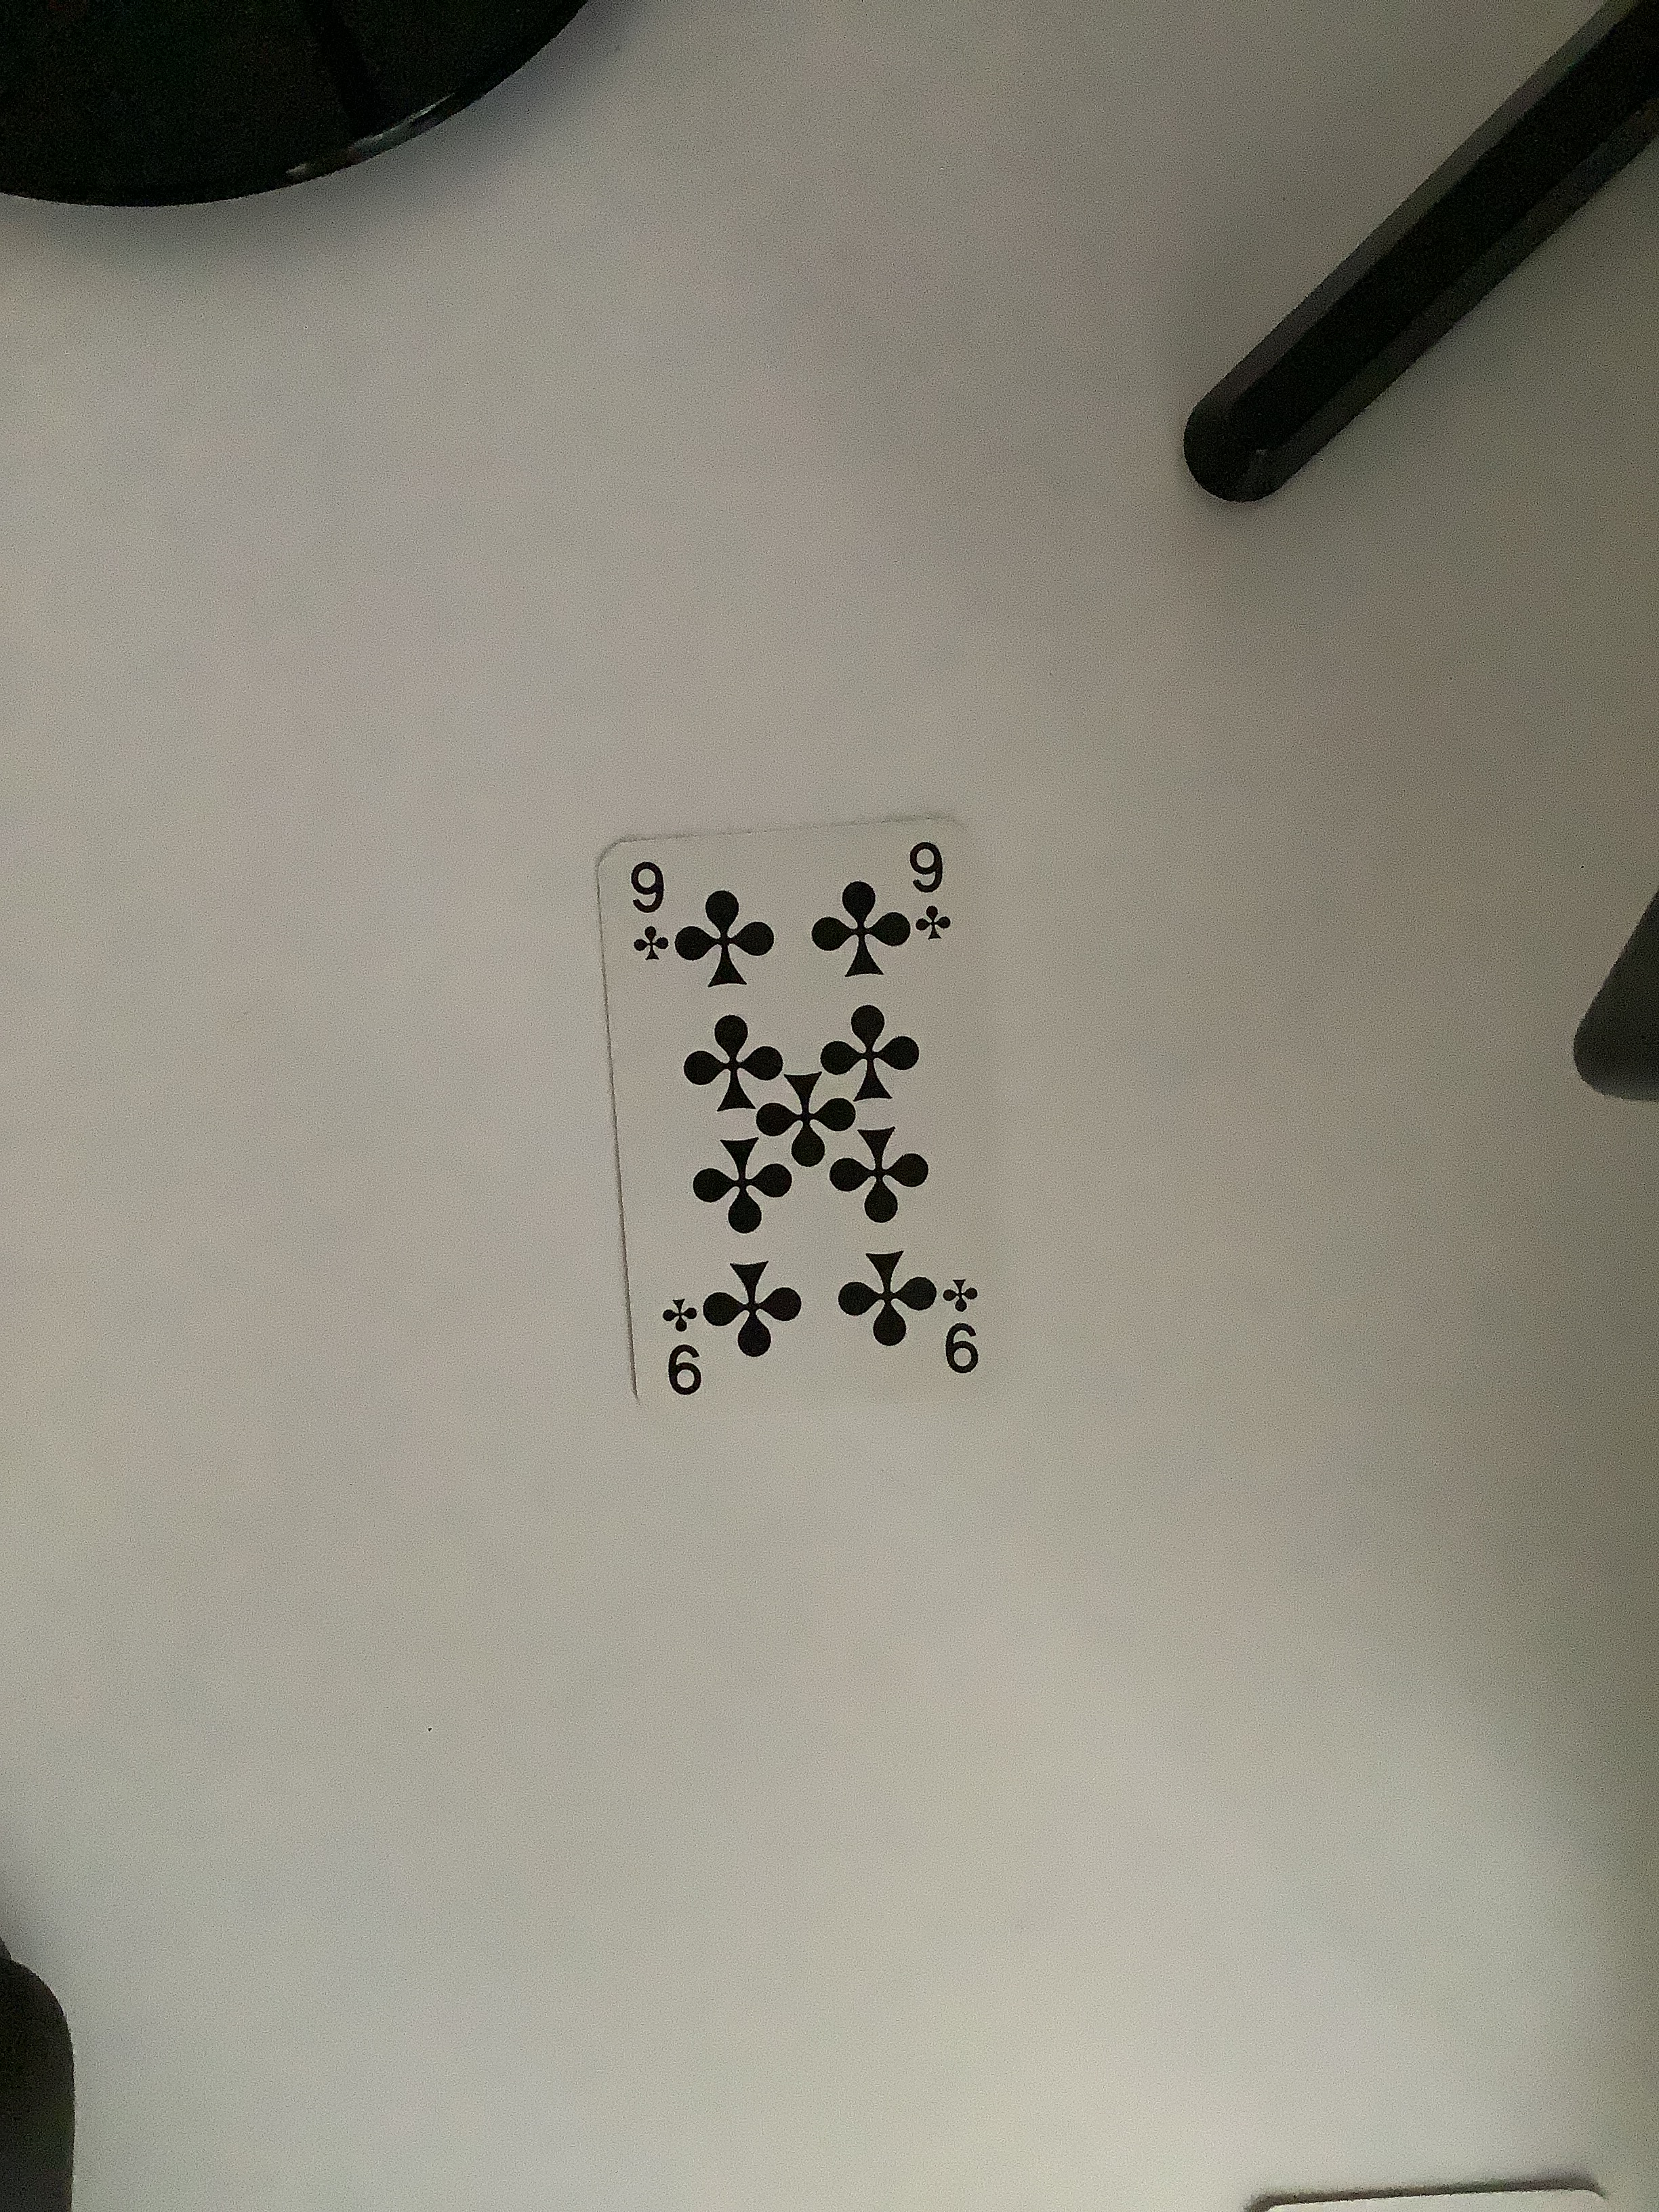♣ 9: (566, 819, 1006, 1454)
